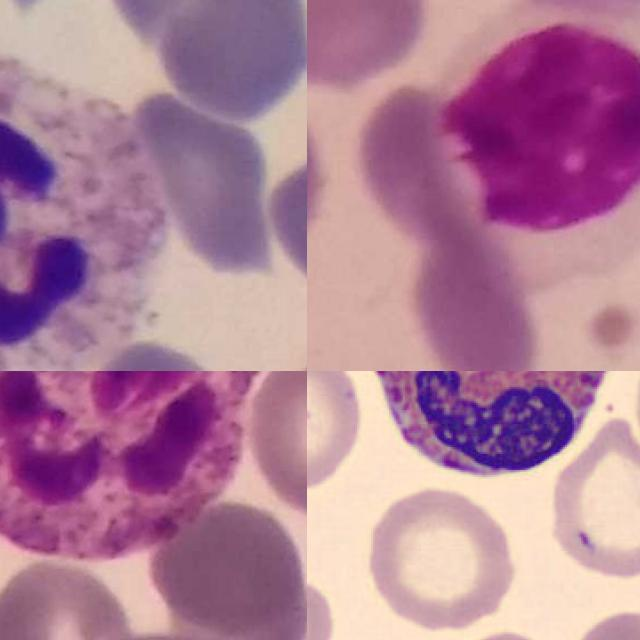Eosinophil: (353, 371, 628, 492)
Lymphocyte: (447, 0, 640, 296)
Neutrophil: (0, 54, 168, 371), (0, 371, 258, 561)
RBC: (361, 482, 523, 636), (543, 413, 640, 580), (307, 371, 367, 496), (565, 604, 640, 640), (428, 627, 574, 640)
